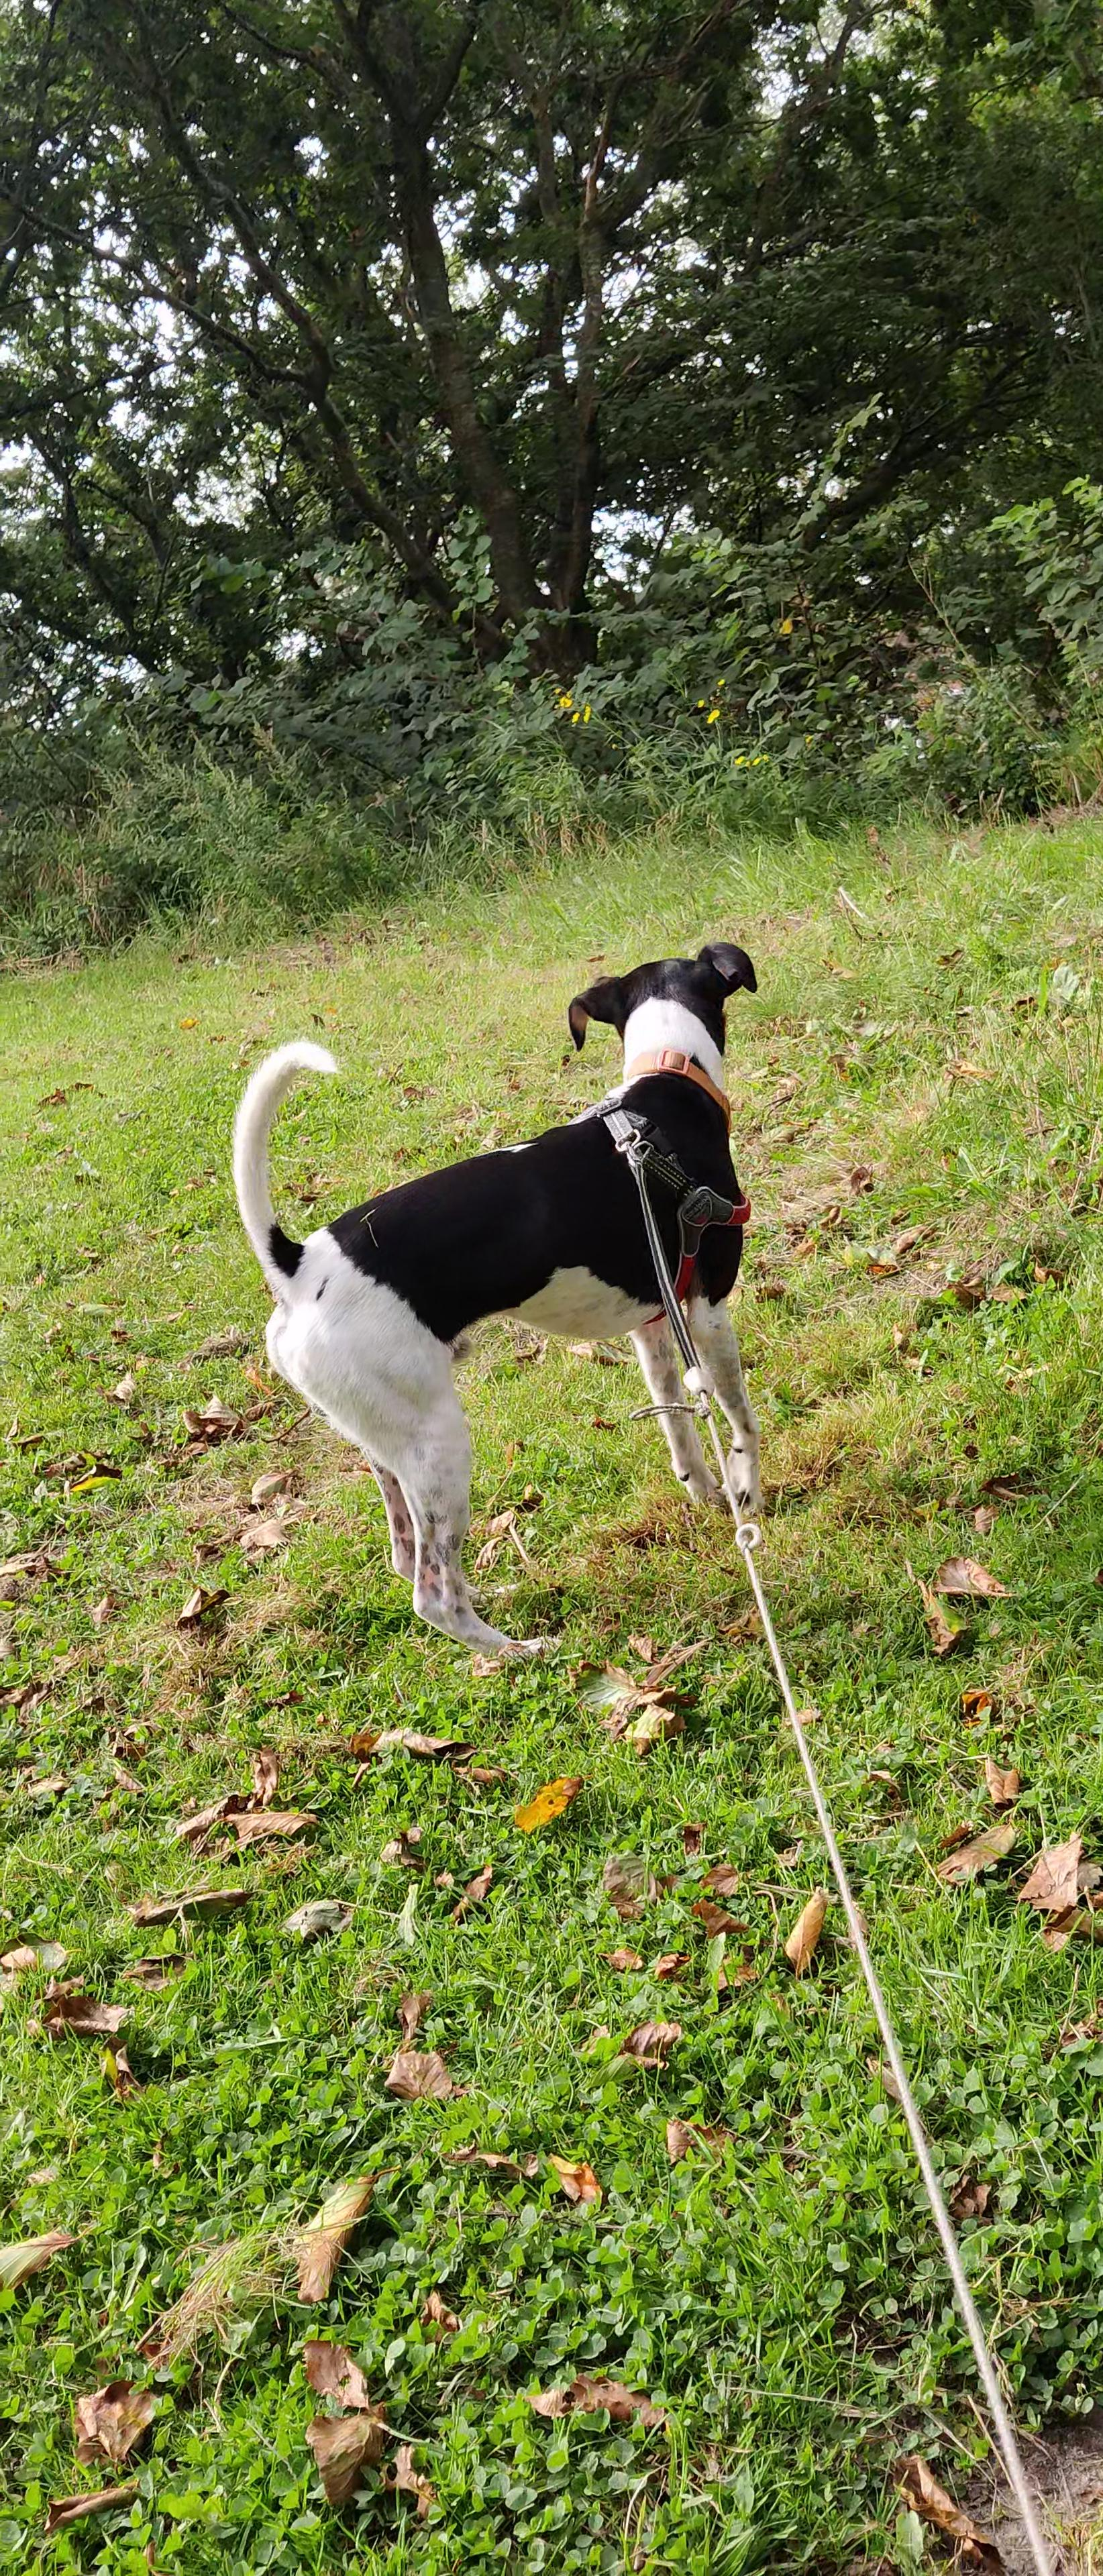Dog: (204, 940, 805, 1666)
